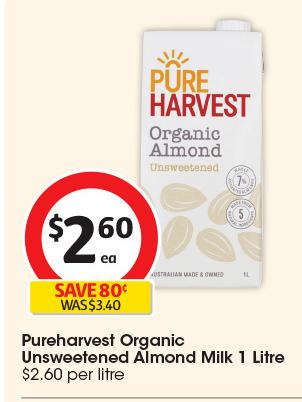description_block: (14, 326, 289, 370)
price_main: (29, 184, 158, 279)
product_image_block: (138, 18, 274, 307)
promo_text_block: (21, 278, 160, 316)
unit_price_block: (16, 363, 129, 384)
